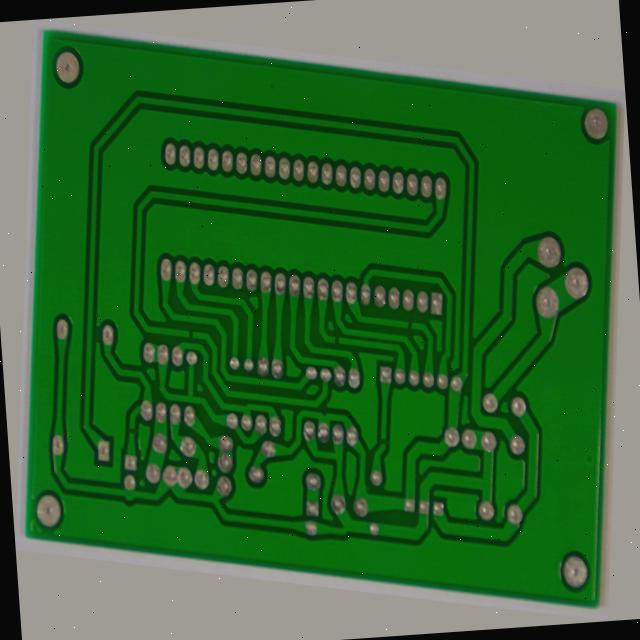open_circuit: (127, 483, 138, 505), (178, 357, 191, 373), (396, 442, 407, 460), (335, 331, 346, 349), (410, 299, 423, 314)
